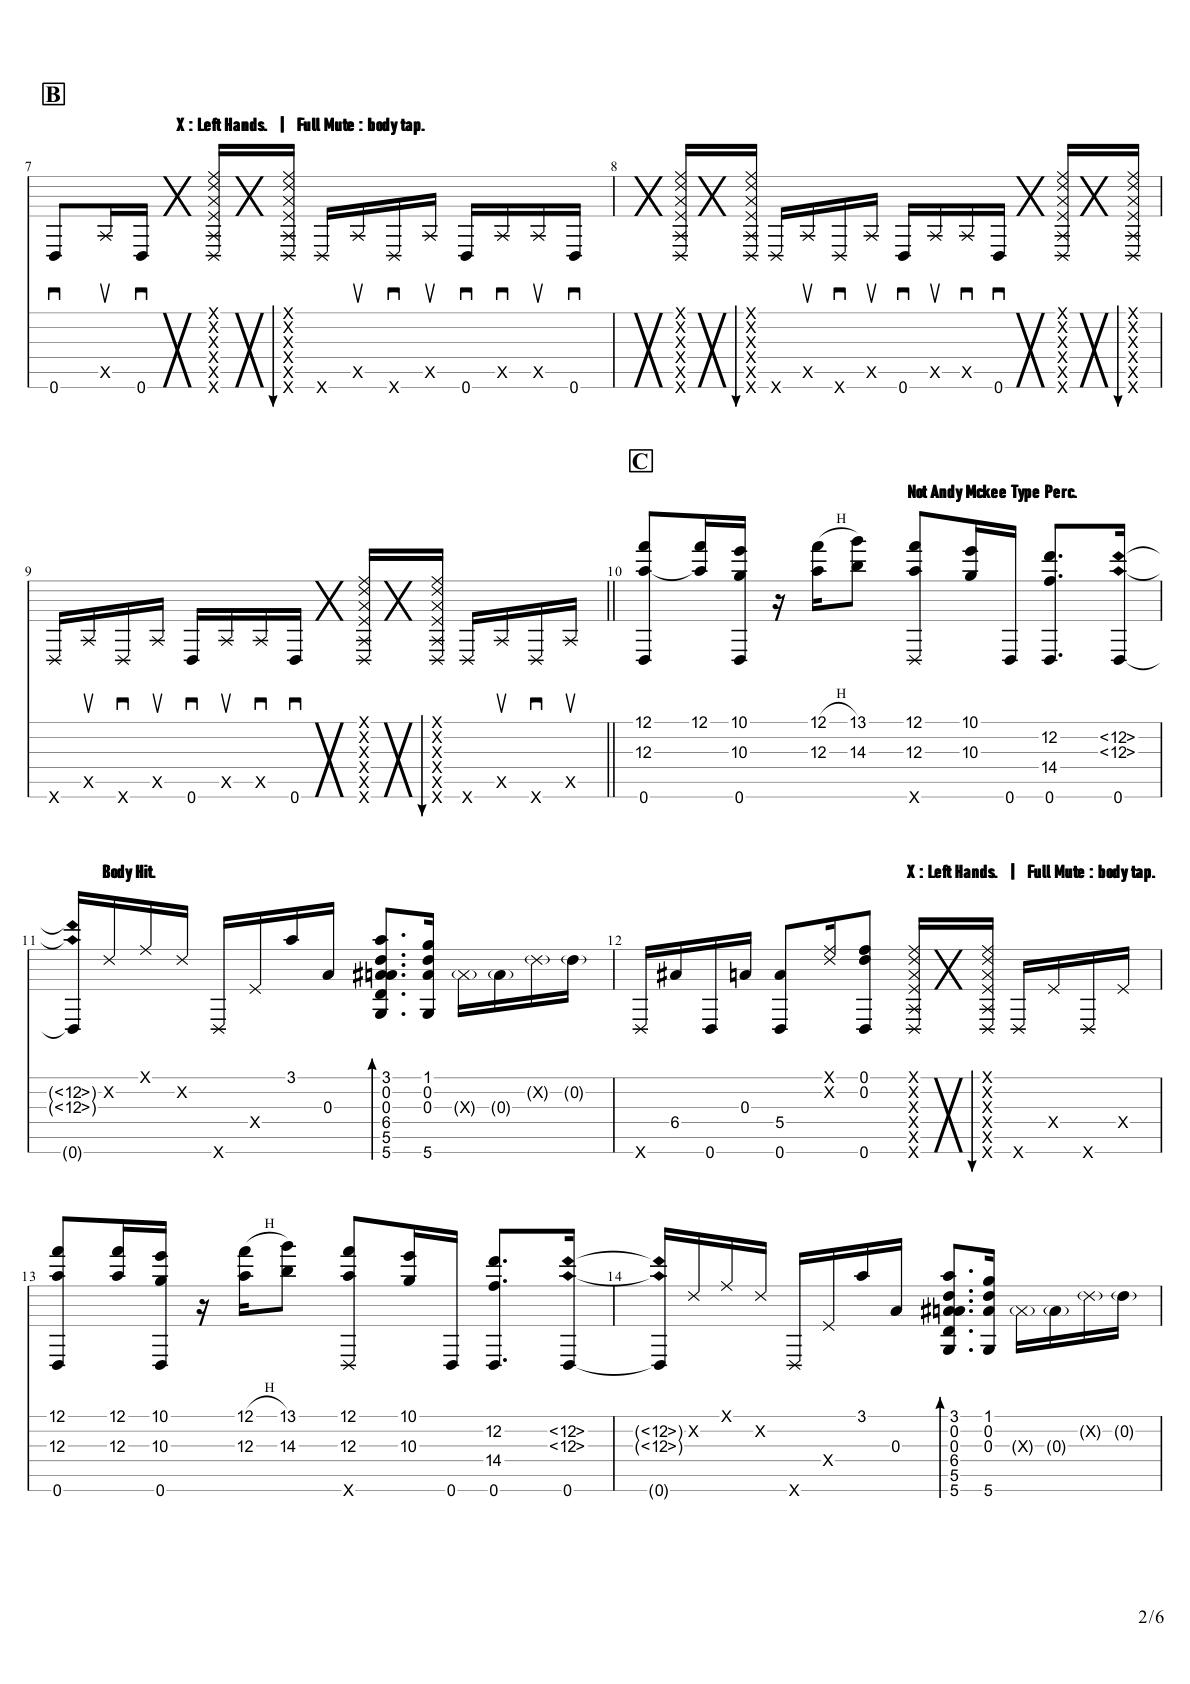0: (273, 268, 294, 288), (433, 268, 453, 288), (671, 268, 692, 288), (829, 268, 850, 288), (531, 469, 551, 489), (662, 568, 683, 588), (153, 268, 173, 288), (513, 268, 532, 288), (571, 469, 590, 489), (732, 469, 751, 489), (811, 469, 831, 489), (851, 469, 871, 489), (506, 568, 525, 588), (643, 547, 663, 566), (702, 547, 722, 566), (721, 568, 741, 588), (780, 568, 800, 588), (690, 618, 710, 639), (811, 618, 831, 639), (735, 791, 756, 810), (625, 802, 645, 821), (665, 802, 685, 821), (949, 823, 968, 843), (1046, 776, 1066, 796), (1105, 776, 1126, 796), (805, 791, 826, 810), (896, 453, 916, 472), (923, 453, 943, 472), (506, 547, 525, 566), (525, 525, 545, 545), (546, 547, 565, 566), (761, 547, 780, 566), (198, 574, 218, 594), (710, 791, 729, 810), (949, 776, 968, 796), (968, 802, 988, 821), (1065, 802, 1084, 821), (1124, 802, 1144, 821)
1: (930, 745, 950, 766)
10: (571, 443, 590, 463), (851, 443, 871, 463), (665, 753, 685, 772), (665, 776, 685, 796), (571, 417, 590, 436), (851, 417, 871, 436)
12: (531, 443, 551, 463), (149, 539, 170, 560), (178, 539, 198, 560), (735, 745, 756, 766), (531, 417, 551, 436), (650, 417, 671, 436), (811, 443, 831, 463), (896, 409, 916, 430), (896, 430, 916, 451), (923, 409, 943, 430), (923, 430, 943, 451), (149, 520, 170, 539), (178, 520, 198, 539), (625, 753, 645, 772), (625, 776, 645, 796), (710, 745, 729, 766), (735, 767, 756, 787), (692, 417, 711, 436), (732, 417, 751, 436), (811, 417, 831, 436), (466, 753, 486, 772), (506, 753, 525, 772), (546, 753, 565, 772), (710, 767, 729, 787)
13: (650, 443, 671, 463), (466, 776, 486, 796)
14: (692, 443, 711, 463), (506, 776, 525, 796)
3: (845, 745, 865, 766), (466, 525, 486, 545)
5: (585, 525, 605, 545), (730, 618, 750, 639), (988, 874, 1008, 893)
6: (565, 568, 586, 588), (650, 618, 670, 639), (968, 848, 988, 868)
h: (616, 402, 636, 422), (428, 739, 447, 760)
x: (192, 268, 212, 288), (234, 242, 255, 263), (352, 242, 372, 263), (352, 268, 372, 288), (590, 242, 610, 263), (590, 268, 610, 288), (751, 242, 771, 263), (751, 268, 771, 288), (988, 242, 1008, 263), (988, 268, 1008, 288), (1068, 242, 1088, 263), (1068, 268, 1088, 288), (650, 469, 671, 489), (764, 745, 784, 766), (805, 745, 826, 766), (1084, 745, 1105, 766), (192, 149, 212, 169), (194, 242, 214, 263), (234, 173, 255, 192), (234, 220, 255, 239), (233, 268, 252, 288), (352, 149, 372, 169), (352, 173, 372, 192), (352, 194, 372, 214), (352, 220, 372, 239), (590, 149, 610, 169), (590, 173, 610, 192), (590, 194, 610, 214), (590, 220, 610, 239), (751, 149, 771, 169), (751, 173, 771, 192), (751, 194, 771, 214), (751, 220, 771, 239), (909, 242, 929, 263), (909, 268, 929, 288), (988, 149, 1008, 169), (988, 173, 1008, 192), (988, 194, 1008, 214), (988, 220, 1008, 239), (1068, 149, 1088, 169), (1068, 173, 1088, 192), (1068, 194, 1088, 214), (1068, 220, 1088, 239), (1147, 242, 1167, 263), (1147, 268, 1167, 288), (428, 568, 447, 588), (741, 525, 761, 545), (850, 525, 871, 545), (850, 547, 871, 566), (911, 618, 930, 639), (1068, 525, 1088, 545), (1068, 547, 1088, 566), (258, 525, 278, 545), (258, 547, 278, 566), (297, 574, 318, 594), (764, 767, 784, 787), (805, 767, 826, 787), (845, 802, 865, 821), (1026, 745, 1046, 766), (193, 173, 212, 192), (194, 194, 214, 214), (193, 220, 212, 239), (233, 149, 252, 169), (234, 194, 254, 214), (909, 149, 929, 169), (909, 173, 929, 192), (909, 194, 929, 214), (909, 220, 929, 239), (1147, 149, 1167, 169), (1147, 173, 1167, 192), (1147, 194, 1167, 214), (1147, 220, 1167, 239), (428, 525, 447, 545), (428, 547, 447, 566), (625, 525, 644, 545), (683, 525, 702, 545), (811, 525, 831, 545), (811, 547, 831, 566), (949, 525, 968, 545), (949, 547, 968, 566), (989, 525, 1008, 545), (989, 547, 1008, 566), (1147, 525, 1167, 545), (1147, 547, 1167, 566), (506, 802, 525, 821)
